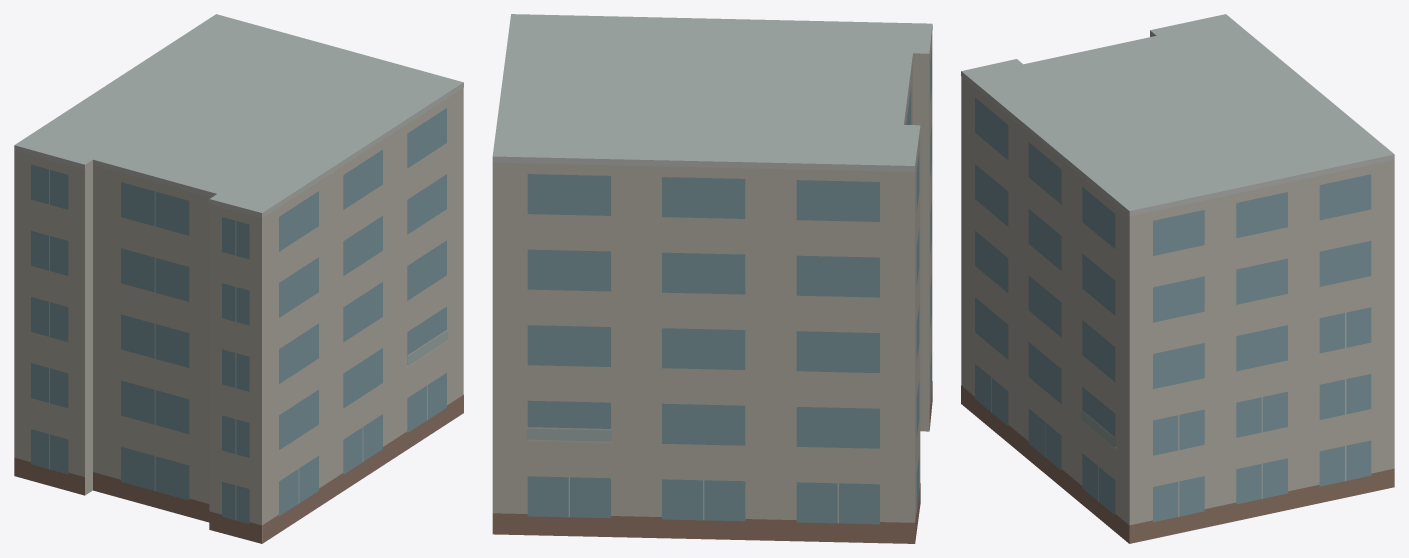
File: survey-upis-32827676.glb
3 views of the same model, side by side, from view 1: azimuth 30°, elevation 25°; view 2: azimuth 150°, elevation 25°; view 3: azimuth 270°, elevation 25° (orthographic). The views are drawn at different scales.
Parts seen in each view (by area): view 1: survey-upis-32827676.tmp; view 2: survey-upis-32827676.tmp; view 3: survey-upis-32827676.tmp.
Part boxes in pixels (<box>): survey-upis-32827676.tmp: <box>14,14,463,543</box>; survey-upis-32827676.tmp: <box>492,14,932,543</box>; survey-upis-32827676.tmp: <box>961,14,1394,543</box>.
Bounding box in the file's own units: 19.38 × 15.25 × 18.01.
